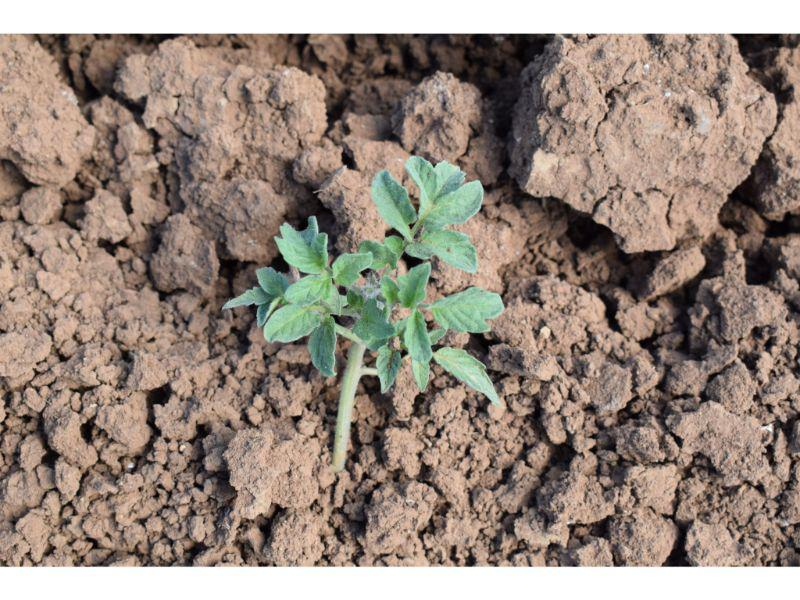tomato: (226, 156, 503, 409)
